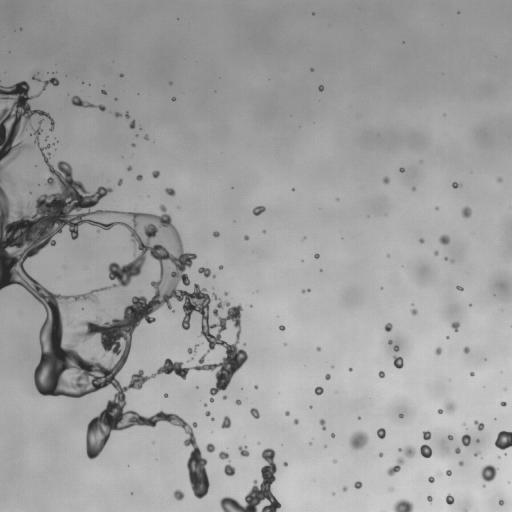droplet: (219, 448, 280, 511), (349, 431, 369, 450), (494, 430, 511, 450), (481, 465, 497, 482), (437, 400, 456, 413), (393, 499, 413, 511), (419, 444, 432, 458), (399, 446, 415, 457), (224, 462, 235, 476), (393, 356, 403, 369), (173, 489, 184, 500), (221, 416, 231, 428), (461, 434, 471, 446), (252, 206, 265, 215), (238, 446, 249, 456), (461, 207, 471, 217), (474, 420, 484, 430), (439, 235, 449, 244), (451, 322, 460, 332), (250, 408, 259, 418), (445, 494, 454, 504), (218, 451, 229, 459), (314, 386, 323, 395), (422, 431, 431, 440), (206, 443, 215, 452), (377, 428, 385, 438), (319, 419, 326, 430), (165, 188, 175, 195), (384, 323, 392, 331), (354, 481, 362, 489), (152, 170, 159, 178), (382, 177, 389, 184), (378, 371, 385, 378), (129, 120, 135, 128), (452, 182, 460, 188), (435, 347, 441, 355), (410, 309, 417, 315), (463, 346, 469, 353), (136, 174, 142, 180), (213, 231, 219, 237), (393, 345, 399, 351), (428, 476, 434, 482), (278, 325, 285, 330), (446, 469, 451, 476), (318, 85, 323, 91), (115, 112, 121, 117), (325, 374, 330, 380), (235, 399, 241, 404), (455, 447, 460, 453), (474, 451, 480, 456), (342, 485, 347, 491), (427, 496, 432, 502), (499, 499, 504, 505), (456, 286, 463, 290), (399, 167, 404, 172), (419, 238, 424, 243), (314, 253, 319, 258), (501, 401, 506, 406), (205, 411, 210, 416), (448, 435, 453, 440), (458, 461, 463, 466), (125, 112, 129, 118), (118, 179, 122, 185), (101, 90, 106, 94), (144, 135, 148, 140), (244, 235, 248, 240), (66, 321, 71, 325), (398, 413, 403, 417), (294, 419, 298, 424), (443, 448, 448, 452), (379, 452, 383, 457), (127, 166, 131, 170), (497, 178, 501, 182), (434, 251, 438, 255), (388, 340, 392, 344), (316, 347, 320, 351), (470, 372, 474, 376), (254, 385, 258, 389), (222, 395, 226, 399), (285, 411, 289, 415), (283, 462, 287, 466), (131, 143, 135, 146), (219, 265, 222, 269), (224, 291, 227, 295), (188, 358, 192, 361), (331, 433, 334, 437), (333, 459, 336, 463), (310, 68, 313, 71), (172, 97, 175, 100), (412, 187, 415, 190), (349, 368, 352, 371), (164, 394, 167, 397), (476, 439, 479, 442), (389, 488, 392, 491), (120, 74, 123, 76), (435, 207, 438, 209), (451, 259, 453, 262), (243, 343, 246, 345), (358, 416, 360, 419), (38, 183, 40, 185), (263, 230, 265, 232), (303, 237, 305, 239), (387, 255, 389, 257), (444, 257, 446, 259)
ligament: (0, 84, 247, 498), (71, 96, 105, 111), (387, 457, 404, 476), (42, 77, 59, 90), (198, 267, 215, 277), (187, 343, 198, 353), (32, 75, 40, 81), (301, 289, 310, 293), (464, 510, 467, 511)
